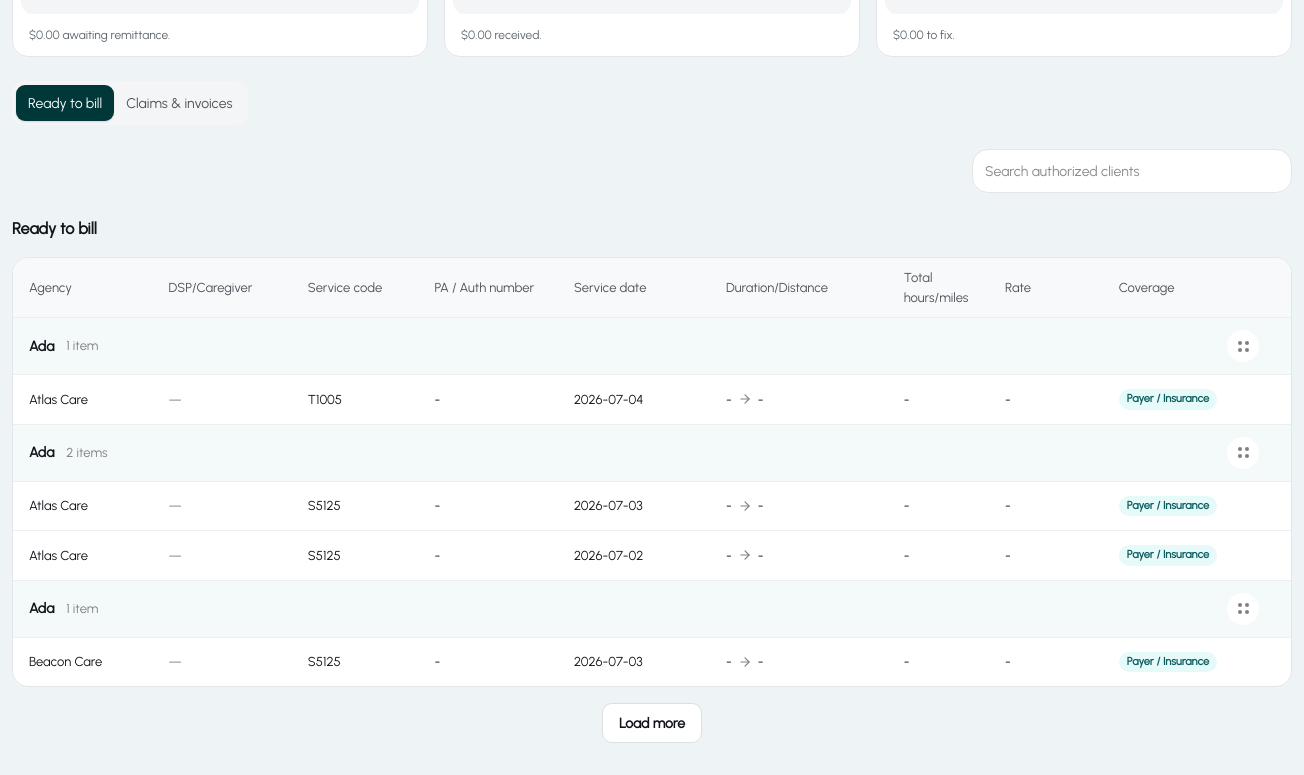
NetworkClaims › keeps rendered rows and exposes an accessible retry after a load-more failure
The image size is (1304, 775).
(page scrolled)
What coordinates should you click on to do the following:
click the button with aria-label "Load more ready-to-bill items"
I would click on:
 (652, 723)
Its box is [602, 703, 702, 743].
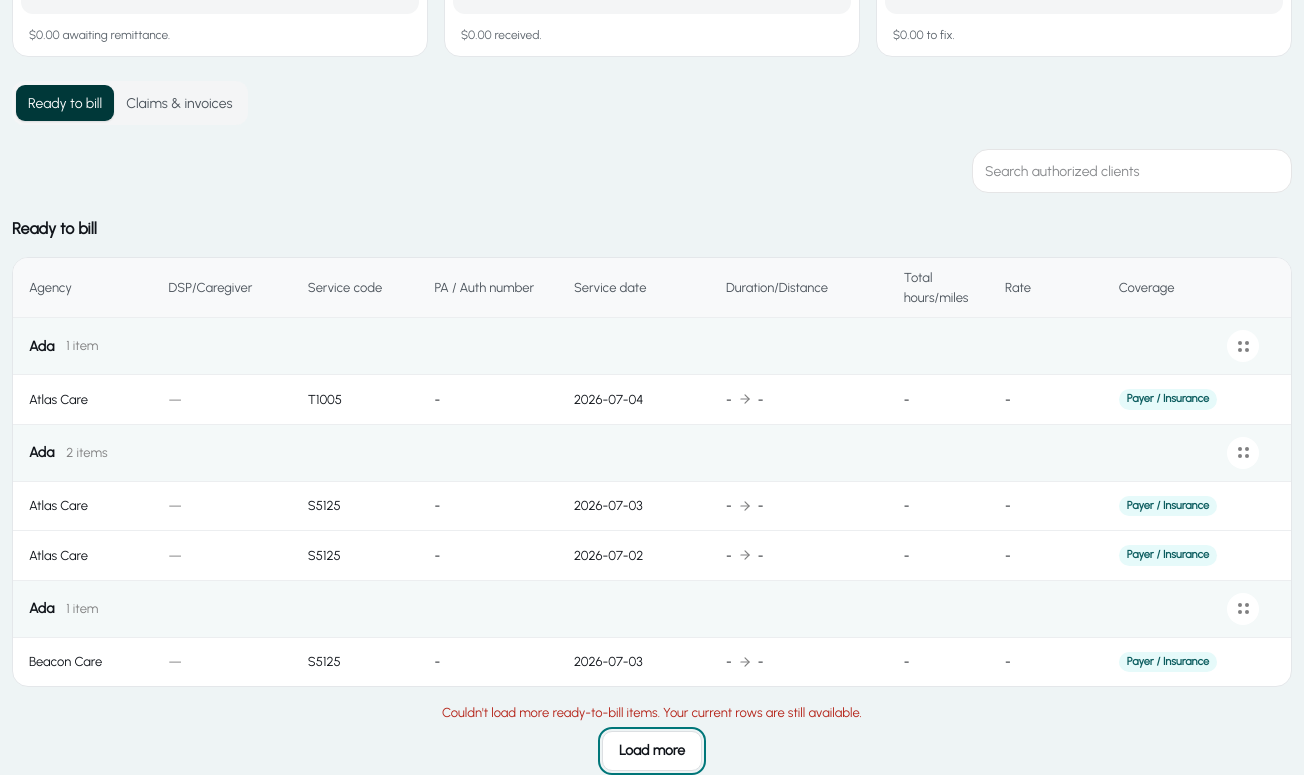
Now the message shows "Couldn't load more ready-to-bill items", box [442, 705, 862, 720]
Now the button with aria-label "Retry loading more ready-to-bill items" is shown, box [602, 730, 702, 770]
